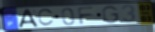0: (61, 7, 76, 26)
3: (121, 3, 138, 24)
A: (18, 8, 40, 29)
C: (37, 8, 56, 27)
F: (76, 6, 97, 26)
G: (102, 5, 121, 24)
